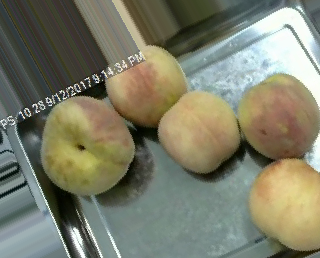Peach: (41, 93, 135, 196), (156, 90, 240, 175), (238, 73, 319, 160), (103, 45, 187, 127), (247, 158, 319, 250)
